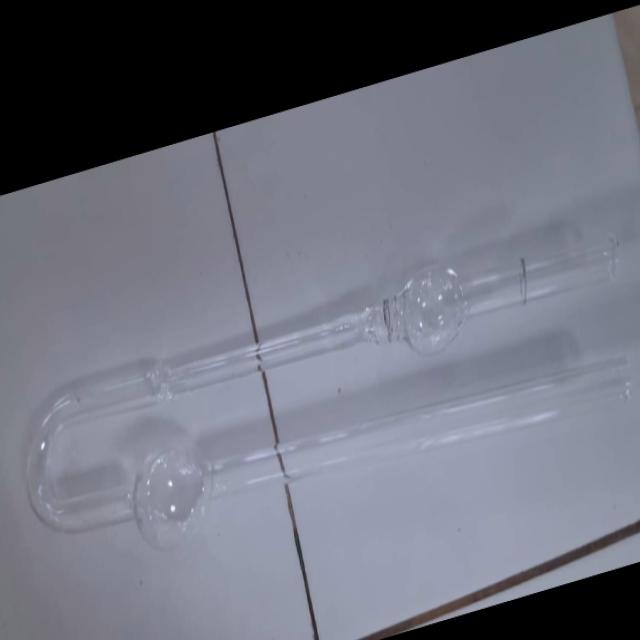Ostwald Viscometer: (12, 206, 640, 582)
